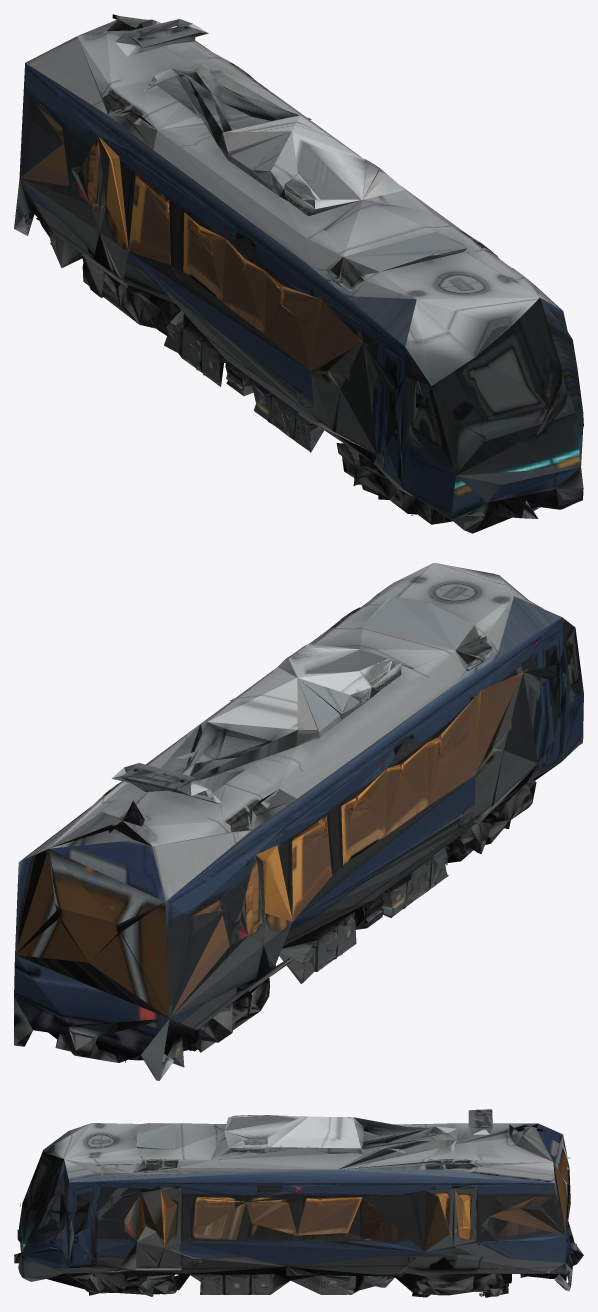
The model's file is train_front_lod1.glb.
3 views of the same model, one above another, from view 1: azimuth 30°, elevation 25°; view 2: azimuth 150°, elevation 25°; view 3: azimuth 270°, elevation 25° (orthographic). The views are drawn at different scales.
Visible parts, largest first — view 1: Train_Front_lod1; view 2: Train_Front_lod1; view 3: Train_Front_lod1.
Part boxes in pixels (x1,y1,x2,y2): Train_Front_lod1: [14, 14, 583, 533]; Train_Front_lod1: [14, 563, 583, 1080]; Train_Front_lod1: [14, 1109, 583, 1297].
Size of the model in its own units: 3.08 by 4.43 by 13.62.
1 material, 1 textured.
